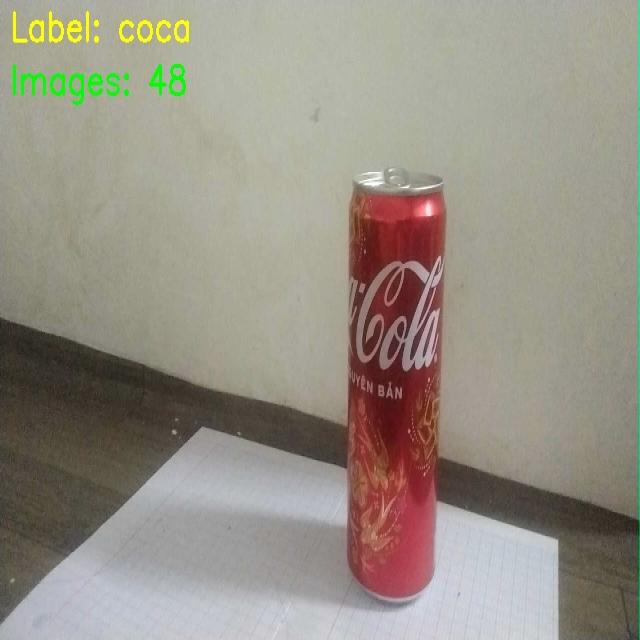Coca: (345, 128, 455, 620)
